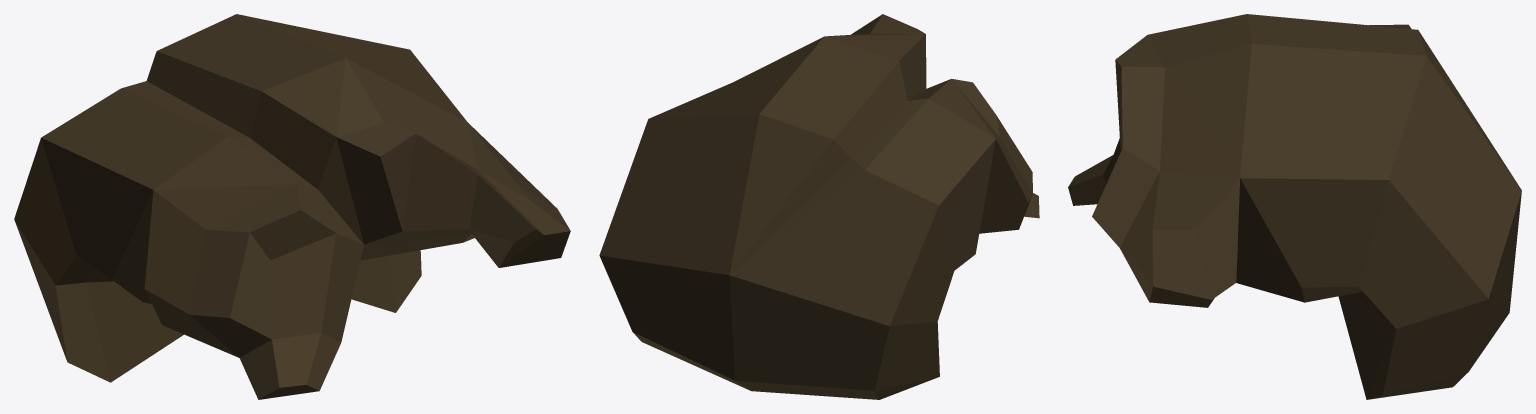
Rendered from Chr_Hair_05_Static.fbx.
The picture shows the model from 3 angles, left to right: view 1: azimuth 30°, elevation 25°; view 2: azimuth 150°, elevation 25°; view 3: azimuth 270°, elevation 25°; orthographic projection. The views are drawn at different scales.
Parts seen in each view (by area): view 1: Chr_Hair_05_Static; view 2: Chr_Hair_05_Static; view 3: Chr_Hair_05_Static.
Boxes of the visible parts, left/top/right/bottom form: Chr_Hair_05_Static: left=14, top=14, right=570, bottom=399; Chr_Hair_05_Static: left=599, top=14, right=1039, bottom=399; Chr_Hair_05_Static: left=1068, top=14, right=1521, bottom=399.
Bounding box in the file's own units: 0.3148 × 0.2401 × 0.3211.
